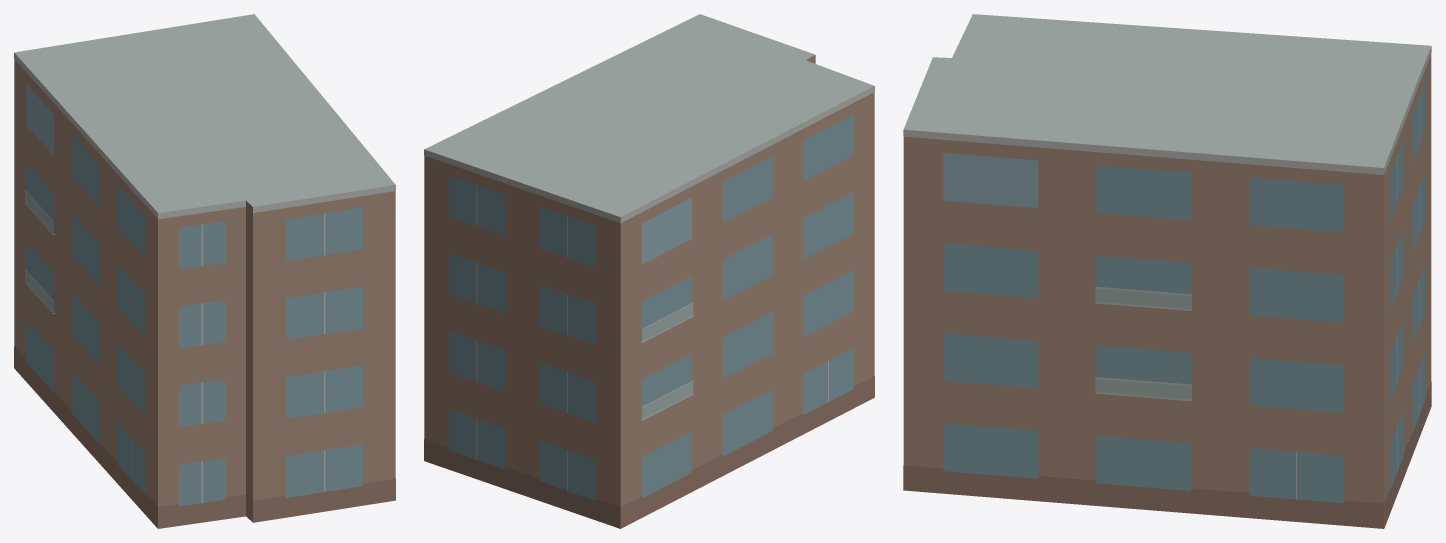
The model's file is survey-upis-32660204.glb.
3 renders of one model, left to right at view 1: azimuth 30°, elevation 25°; view 2: azimuth 150°, elevation 25°; view 3: azimuth 270°, elevation 25°, orthographic. The views are drawn at different scales.
Parts seen in each view (by area): view 1: survey-upis-32660204.tmp; view 2: survey-upis-32660204.tmp; view 3: survey-upis-32660204.tmp.
Part boxes in pixels (<box>): survey-upis-32660204.tmp: <box>14,14,395,528</box>; survey-upis-32660204.tmp: <box>424,14,874,528</box>; survey-upis-32660204.tmp: <box>903,14,1431,528</box>.
Size of the model in its own units: 11.53 by 12.57 by 16.69.
